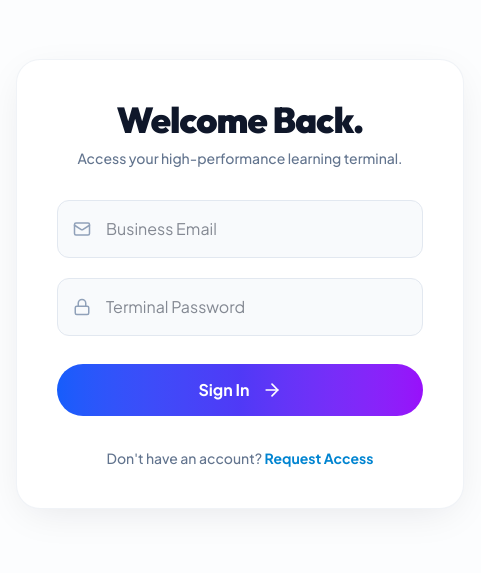
Test: Login Page › handles login failure
Type "test@test.com" into the field with placeholder "Business Email" at (240, 229), box [57,200,423,258]
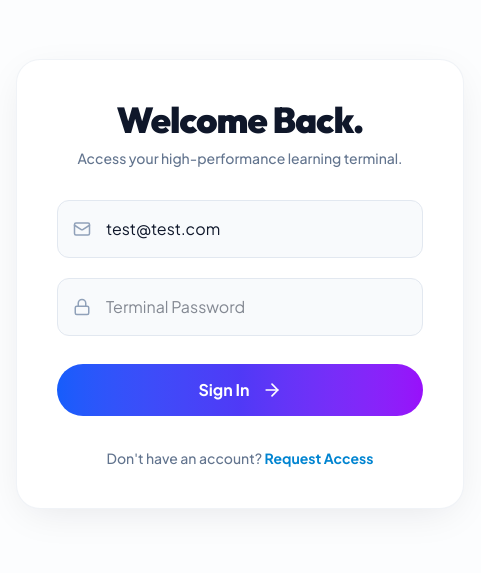
Type "wrong" into the password field with placeholder "Terminal Password" at (240, 307), box [57,278,423,336]
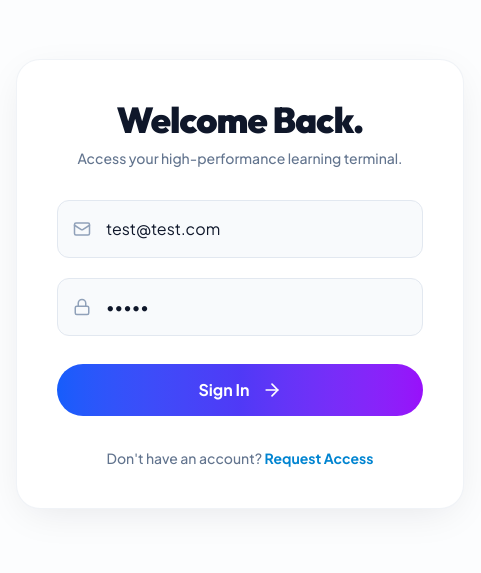
Click the button "Sign In" at (240, 390), box [57,364,423,416]
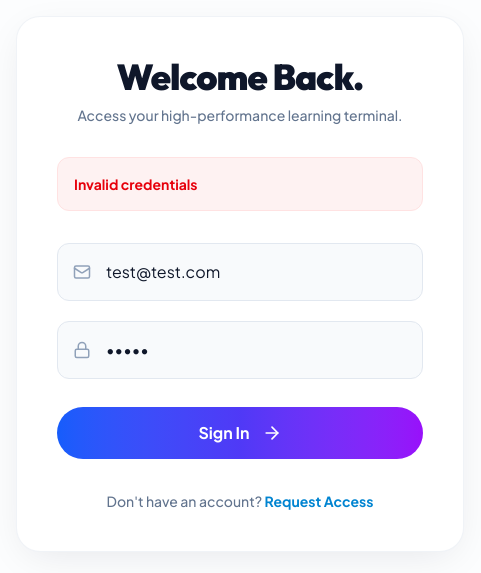
Expected: the text "Invalid credentials" is shown, [57,157,423,211]
